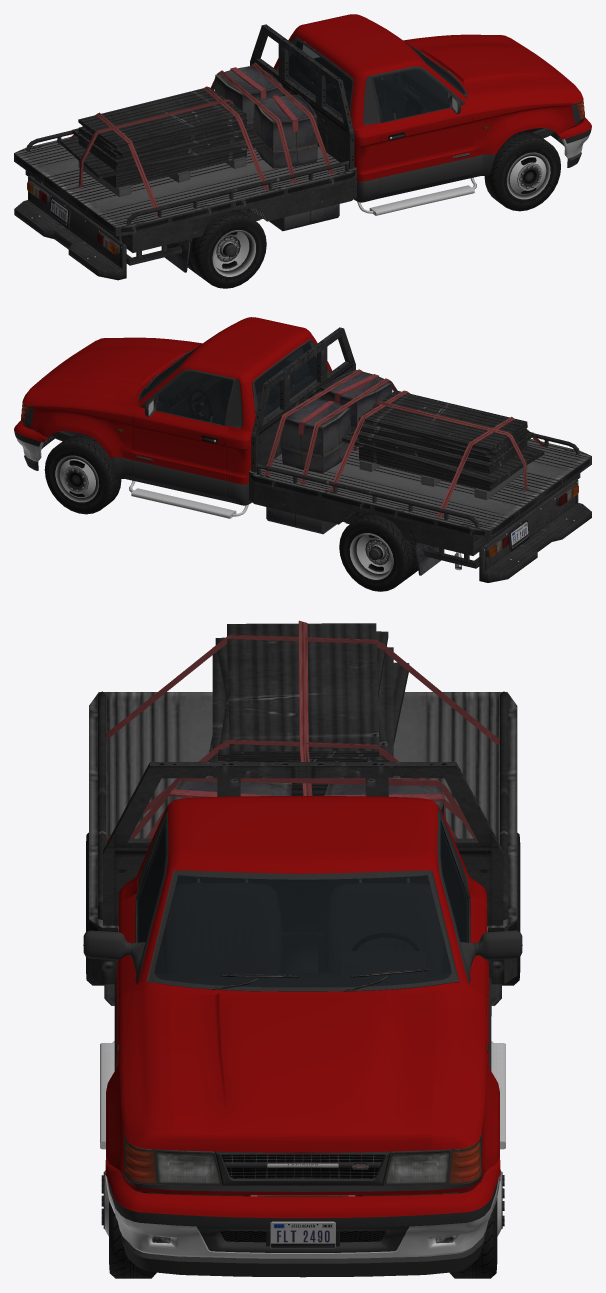
The model's file is lightbody90.glb.
3 renders of one model, top to bottom at view 1: azimuth 30°, elevation 25°; view 2: azimuth 150°, elevation 25°; view 3: azimuth 270°, elevation 25°, orthographic. The views are drawn at different scales.
Parts seen in each view (by area): view 1: UTLTRUCK90_Flatbed_Trim_UCB_BOTTOM_0, UTLTRUCK90_Body_UTLTRUCK90_Bodymat_0, UTLTRUCK90_bottom_UCB_BOTTOM_0, UTLTRUCK90_Hood_UTLTRUCK90_Bodymat_0, UTLTRUCK90_WheelStock_RR_RB1c_Tire_1k_0, UTLTRUCK90_Bumper_rear_UCB_BOTTOM_0, UTLTRUCK90_WheelStock_FR_RB1c_Tire_1k_0, UTLTRUCK90_Interior_UCB_Interiors_1_0, UTLTRUCK90_Glass_Passenger_UCB_Lights_and_Glass_Transperent_, UTLTRUCK90_Glass_Rear_UCB_Lights_and_Glass_Transperent_0, UTLTRUCK90_Bumper_front_inner_UCB_BOTTOM_0, UTLTRUCK90_Taillights_Glass_UCB_Lights_and_Glass_Transperent (+1 smaller); view 2: UTLTRUCK90_Flatbed_Trim_UCB_BOTTOM_0, UTLTRUCK90_Body_UTLTRUCK90_Bodymat_0, UTLTRUCK90_bottom_UCB_BOTTOM_0, UTLTRUCK90_Hood_UTLTRUCK90_Bodymat_0, UTLTRUCK90_WheelStock_RL_RB1c_Tire_1k_0, UTLTRUCK90_Bumper_rear_UCB_BOTTOM_0, UTLTRUCK90_WheelStock_FL_RB1c_Tire_1k_0, UTLTRUCK90_Interior_UCB_Interiors_1_0, UTLTRUCK90_Glass_Driver_UCB_Lights_and_Glass_Transperent_0, UTLTRUCK90_Glass_Rear_UCB_Lights_and_Glass_Transperent_0, UTLTRUCK90_Bumper_front_inner_UCB_BOTTOM_0, UTLTRUCK90_Taillights_Glass_UCB_Lights_and_Glass_Transperent (+1 smaller); view 3: UTLTRUCK90_Flatbed_Trim_UCB_BOTTOM_0, UTLTRUCK90_Body_UTLTRUCK90_Bodymat_0, UTLTRUCK90_Hood_UTLTRUCK90_Bodymat_0, UTLTRUCK90_Interior_UCB_Interiors_1_0, UTLTRUCK90_Windshield_UCB_Lights_and_Glass_Transperent_0, UTLTRUCK90_bottom_UCB_BOTTOM_0, UTLTRUCK90_Bumper_front_inner_UCB_BOTTOM_0, UTLTRUCK90_Bumper_Front_UTLTRUCK90_Bodymat_0, UTLTRUCK90_Headlights_Glass_UCB_Lights_and_Glass_Transperent, UTLTRUCK90_Headlights_UCB_Lights_and_Glass_0, UTLTRUCK90_Blinkers_UCB_Lights_and_Glass_0, UTLTRUCK90_Flatbed_Numberplate_Front_Numberplates_Misk_U_0 (+4 smaller).
Part boxes in pixels (x1,y1,x2,y2): UTLTRUCK90_Flatbed_Trim_UCB_BOTTOM_0: (14, 24, 356, 265); UTLTRUCK90_Body_UTLTRUCK90_Bodymat_0: (273, 14, 583, 181); UTLTRUCK90_bottom_UCB_BOTTOM_0: (165, 36, 584, 272); UTLTRUCK90_Hood_UTLTRUCK90_Bodymat_0: (407, 37, 574, 92); UTLTRUCK90_WheelStock_RR_RB1c_Tire_1k_0: (187, 209, 266, 288); UTLTRUCK90_Bumper_rear_UCB_BOTTOM_0: (14, 175, 126, 280); UTLTRUCK90_WheelStock_FR_RB1c_Tire_1k_0: (484, 132, 560, 211); UTLTRUCK90_Interior_UCB_Interiors_1_0: (289, 36, 463, 125); UTLTRUCK90_Glass_Passenger_UCB_Lights_and_Glass_Transperent_: (373, 70, 449, 121); UTLTRUCK90_Glass_Rear_UCB_Lights_and_Glass_Transperent_0: (289, 41, 351, 114); UTLTRUCK90_Bumper_front_inner_UCB_BOTTOM_0: (551, 123, 591, 167); UTLTRUCK90_Taillights_Glass_UCB_Lights_and_Glass_Transperent: (27, 181, 117, 254); UTLTRUCK90_Flatbed_Trim_UCB_BOTTOM_0: (249, 327, 591, 568); UTLTRUCK90_Body_UTLTRUCK90_Bodymat_0: (22, 317, 332, 484); UTLTRUCK90_bottom_UCB_BOTTOM_0: (21, 339, 461, 575); UTLTRUCK90_Hood_UTLTRUCK90_Bodymat_0: (31, 340, 198, 395); UTLTRUCK90_WheelStock_RL_RB1c_Tire_1k_0: (339, 512, 418, 591); UTLTRUCK90_Bumper_rear_UCB_BOTTOM_0: (479, 478, 591, 582); UTLTRUCK90_WheelStock_FL_RB1c_Tire_1k_0: (44, 435, 121, 514); UTLTRUCK90_Interior_UCB_Interiors_1_0: (142, 345, 316, 424); UTLTRUCK90_Glass_Driver_UCB_Lights_and_Glass_Transperent_0: (157, 373, 232, 424); UTLTRUCK90_Glass_Rear_UCB_Lights_and_Glass_Transperent_0: (254, 343, 316, 417); UTLTRUCK90_Bumper_front_inner_UCB_BOTTOM_0: (14, 426, 54, 470); UTLTRUCK90_Taillights_Glass_UCB_Lights_and_Glass_Transperent: (488, 484, 578, 557); UTLTRUCK90_Flatbed_Trim_UCB_BOTTOM_0: (89, 620, 517, 1005); UTLTRUCK90_Body_UTLTRUCK90_Bodymat_0: (106, 796, 499, 1195); UTLTRUCK90_Hood_UTLTRUCK90_Bodymat_0: (169, 992, 436, 1152); UTLTRUCK90_Interior_UCB_Interiors_1_0: (140, 830, 465, 986); UTLTRUCK90_Windshield_UCB_Lights_and_Glass_Transperent_0: (154, 875, 451, 987); UTLTRUCK90_bottom_UCB_BOTTOM_0: (83, 808, 522, 1196); UTLTRUCK90_Bumper_front_inner_UCB_BOTTOM_0: (105, 1175, 500, 1277); UTLTRUCK90_Bumper_Front_UTLTRUCK90_Bodymat_0: (105, 1159, 500, 1218); UTLTRUCK90_Headlights_Glass_UCB_Lights_and_Glass_Transperent: (124, 1141, 481, 1184); UTLTRUCK90_Headlights_UCB_Lights_and_Glass_0: (156, 1152, 449, 1183); UTLTRUCK90_Blinkers_UCB_Lights_and_Glass_0: (124, 1141, 481, 1182); UTLTRUCK90_Flatbed_Numberplate_Front_Numberplates_Misk_U_0: (270, 1221, 335, 1248).
Size of the model in its own units: 5.27 by 1.68 by 2.
Materials: 8 (7 with a texture image).
